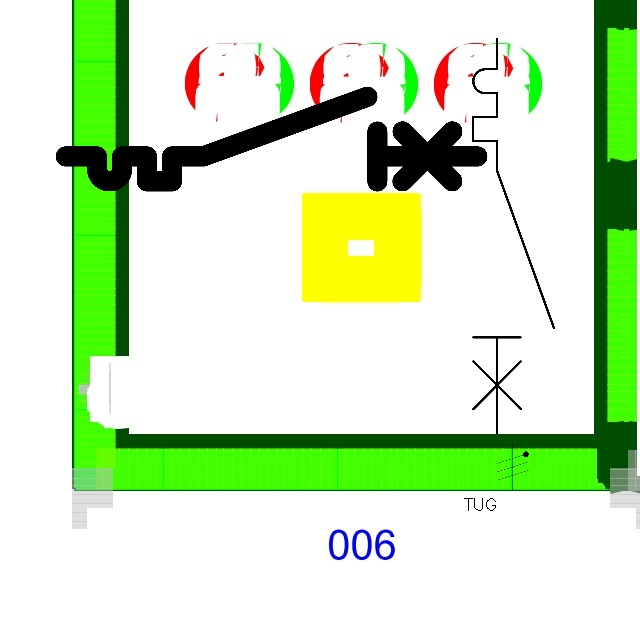interruptor_termomagnetico: (55, 86, 488, 192), (463, 29, 564, 443)
